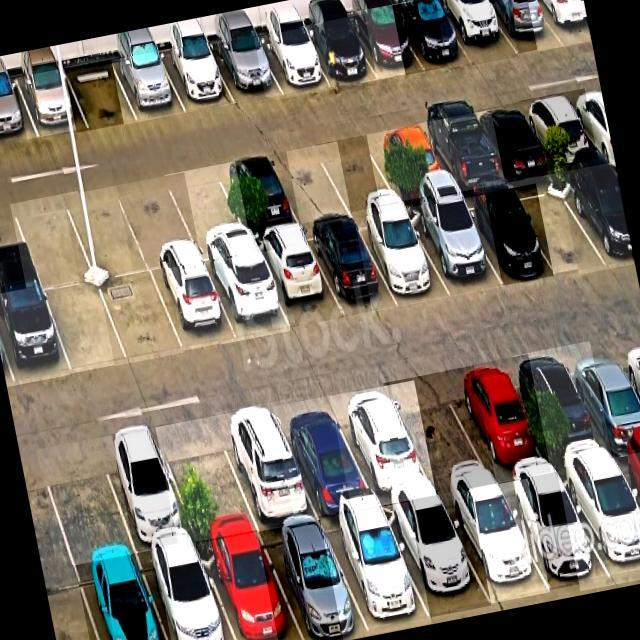empty: (385, 372, 496, 495), (156, 420, 259, 541), (38, 438, 134, 564), (509, 174, 608, 273), (166, 166, 253, 261), (63, 186, 149, 281), (117, 178, 201, 271), (99, 272, 184, 363), (11, 195, 94, 288), (45, 282, 127, 373), (269, 146, 351, 223), (316, 137, 399, 212), (65, 60, 139, 129)
occupied: (321, 508, 432, 636), (258, 521, 369, 640), (382, 498, 492, 617), (499, 473, 610, 590), (441, 484, 550, 603), (215, 403, 318, 528), (446, 361, 551, 482), (96, 428, 196, 551), (330, 387, 436, 503), (273, 398, 375, 516), (513, 349, 613, 468), (197, 532, 304, 640), (557, 458, 640, 584), (139, 543, 235, 640), (456, 190, 553, 285), (406, 201, 503, 296), (253, 229, 343, 330), (562, 341, 640, 456), (305, 219, 397, 316), (355, 210, 450, 303), (76, 554, 167, 640), (152, 263, 238, 351), (560, 165, 634, 267), (205, 254, 290, 340), (0, 288, 71, 385), (216, 155, 301, 236), (418, 115, 505, 193), (367, 126, 451, 199), (473, 103, 553, 178), (520, 94, 598, 167), (348, 5, 424, 79), (393, 0, 472, 71), (436, 0, 518, 65), (301, 18, 377, 87), (159, 46, 235, 113), (112, 53, 186, 121), (16, 69, 88, 137), (254, 30, 330, 94), (210, 38, 281, 102), (484, 0, 564, 53), (0, 78, 38, 145), (535, 0, 591, 45)
